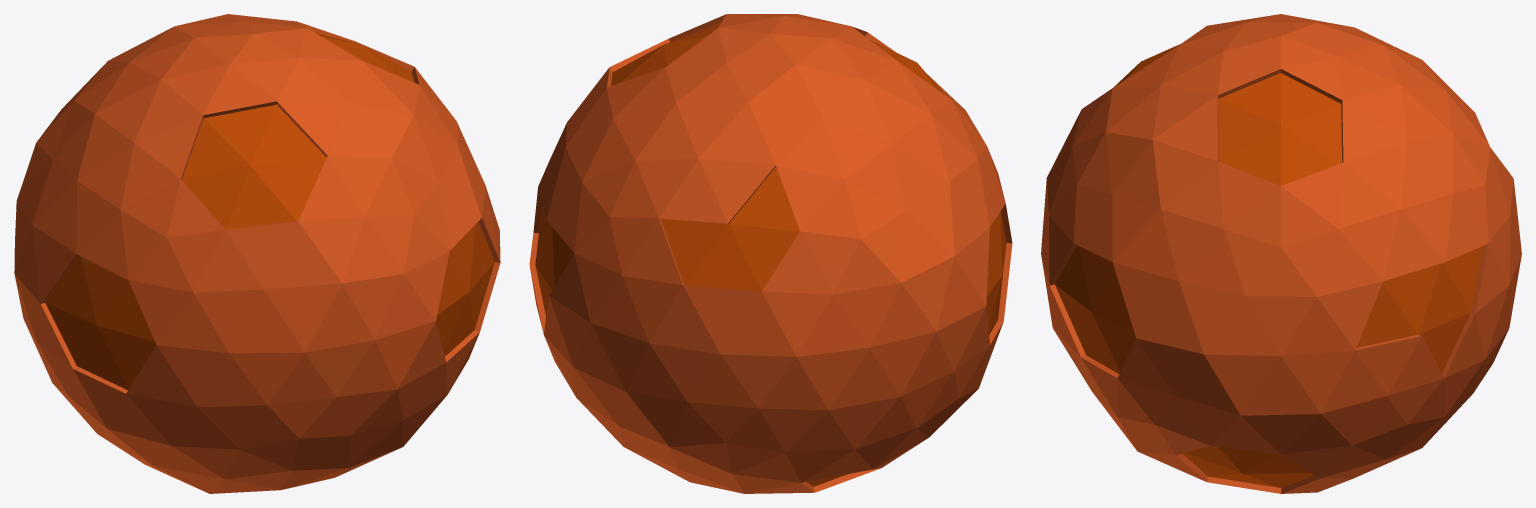
The model's file is mars.glb.
3 views of the same model, side by side, from view 1: azimuth 30°, elevation 25°; view 2: azimuth 150°, elevation 25°; view 3: azimuth 270°, elevation 25° (orthographic).
Parts seen in each view (by area): view 1: Icosphere; view 2: Icosphere; view 3: Icosphere.
Part boxes in pixels (x1,y1,x2,y2): Icosphere: (14, 14, 500, 493); Icosphere: (529, 14, 1012, 493); Icosphere: (1041, 14, 1521, 493).
Size of the model in its own units: 0.6887 by 0.6774 by 0.679.
